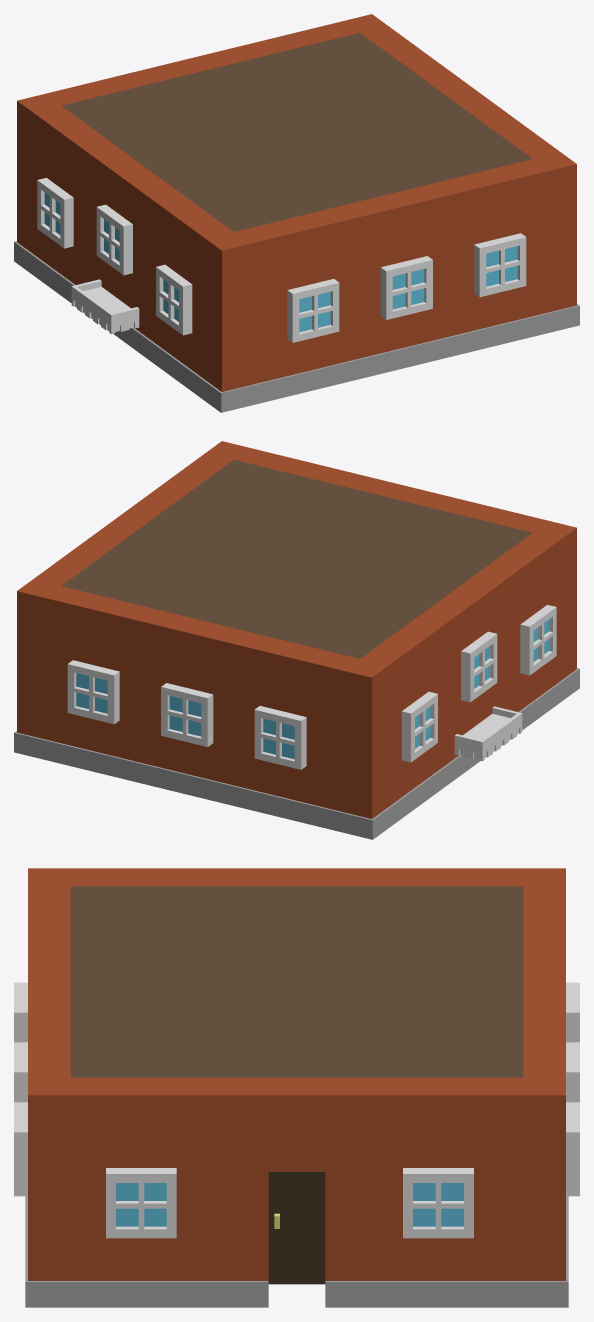
File: BottomHouseCycle.fbx
The picture shows the model from 3 angles, top to bottom: view 1: azimuth 30°, elevation 25°; view 2: azimuth 150°, elevation 25°; view 3: azimuth 270°, elevation 25°; orthographic projection. The views are drawn at different scales.
Parts seen in each view (by area): view 1: BaseHouse, BorderBottom, Window7, Window6, Window8, Flowerbed, Window2, Window, Window1; view 2: BaseHouse, BorderBottom, Window4, Window3, Window5, Flowerbed, Window1, Window, Window2; view 3: BaseHouse, BorderBottom, DoorFrame, Window9, Window10, Window4, Window7, Window3, Window5, Window6, Window8.
Boxes of the visible parts, box(x1,y1,x2,y2) form: BaseHouse: box(17, 14, 576, 391); BorderBottom: box(14, 241, 579, 412); Window7: box(474, 233, 526, 297); Window6: box(380, 256, 432, 319); Window8: box(287, 279, 339, 342); Flowerbed: box(71, 279, 139, 334); Window2: box(156, 264, 192, 335); Window: box(96, 204, 132, 275); Window1: box(37, 178, 73, 248); BaseHouse: box(17, 441, 576, 818); BorderBottom: box(14, 668, 579, 839); Window4: box(67, 660, 119, 724); Window3: box(161, 683, 213, 746); Window5: box(254, 706, 306, 769); Flowerbed: box(454, 706, 522, 761); Window1: box(401, 691, 437, 762); Window: box(461, 631, 497, 702); Window2: box(520, 605, 556, 675); BaseHouse: box(28, 868, 565, 1280); BorderBottom: box(25, 1196, 568, 1307); DoorFrame: box(268, 1172, 325, 1284); Window9: box(106, 1168, 176, 1238); Window10: box(403, 1168, 473, 1238); Window4: box(566, 1102, 579, 1196); Window7: box(14, 1102, 27, 1196); Window3: box(566, 1042, 579, 1102); Window5: box(566, 982, 579, 1042); Window6: box(14, 1042, 27, 1102); Window8: box(14, 982, 27, 1042).
Size of the model in its own units: 10.5 by 4.11 by 10.
